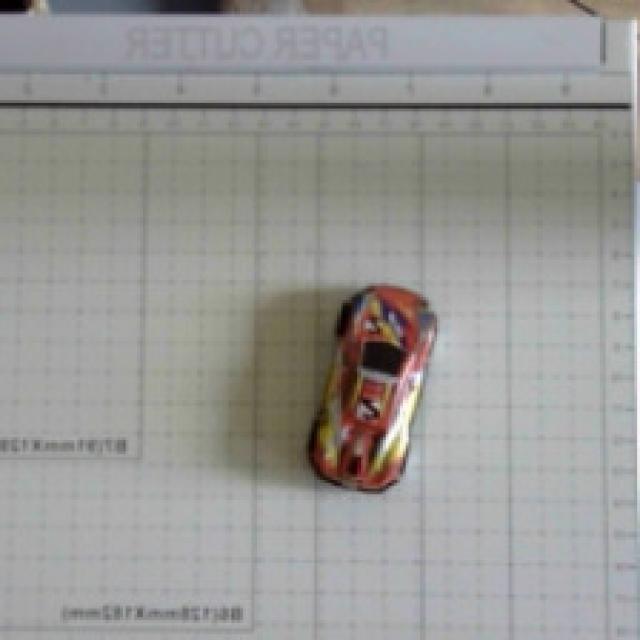Red Car: (261, 264, 455, 518)
